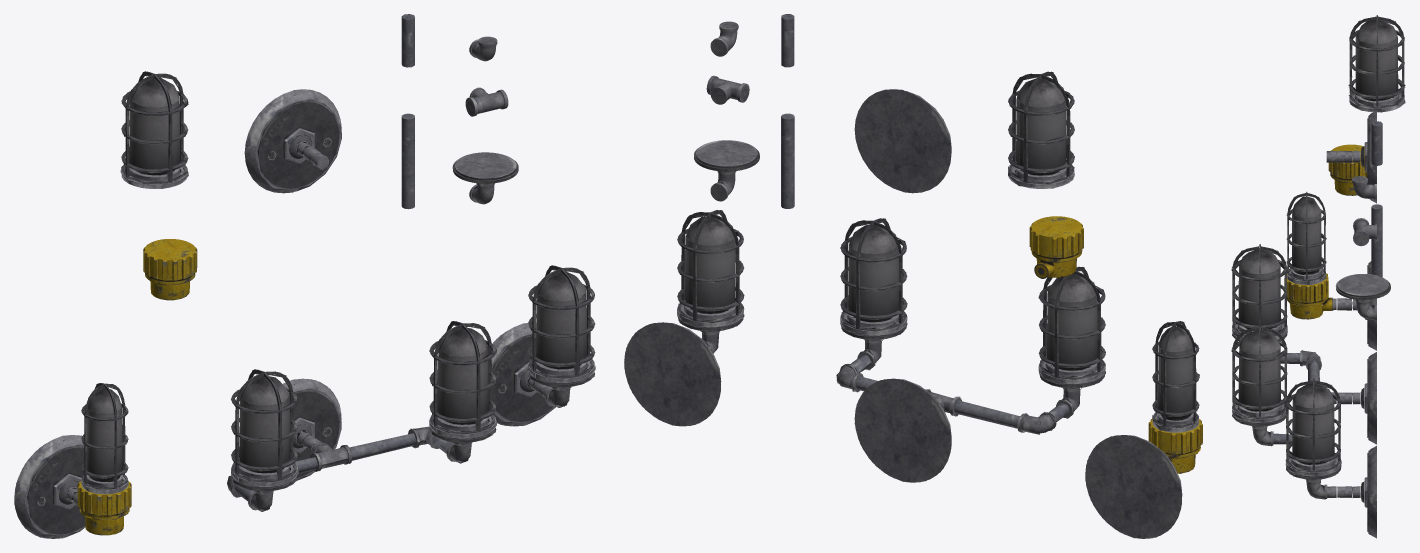
Rendered from caged_sconce.glb.
The picture shows the model from 3 angles, left to right: view 1: azimuth 30°, elevation 25°; view 2: azimuth 150°, elevation 25°; view 3: azimuth 270°, elevation 25°; orthographic projection. The views are drawn at different scales.
Visible parts, largest first — view 1: industrial_caged_sconce_c, industrial_caged_sconce_b, industrial_caged_sconce_a, industrial_caged_sconce_mount, industrial_caged_sconce_light, industrial_caged_sconce_base_a, industrial_caged_sconce_base_b, industrial_caged_sconce_pipe_long, industrial_caged_sconce_pipe_t, industrial_caged_sconce_pipe_short; view 2: industrial_caged_sconce_c, industrial_caged_sconce_a, industrial_caged_sconce_b, industrial_caged_sconce_mount, industrial_caged_sconce_light, industrial_caged_sconce_base_a, industrial_caged_sconce_base_b, industrial_caged_sconce_pipe_long, industrial_caged_sconce_pipe_t, industrial_caged_sconce_pipe_short; view 3: industrial_caged_sconce_c, industrial_caged_sconce_a, industrial_caged_sconce_b, industrial_caged_sconce_light, industrial_caged_sconce_base_b, industrial_caged_sconce_mount, industrial_caged_sconce_base_a, industrial_caged_sconce_pipe_long, industrial_caged_sconce_pipe_short, industrial_caged_sconce_pipe_t, industrial_caged_sconce_elbow.
Boxes of the visible parts, x1,y1,x2,y2 form: industrial_caged_sconce_c: (227, 321, 496, 511); industrial_caged_sconce_b: (14, 383, 131, 538); industrial_caged_sconce_a: (491, 265, 595, 426); industrial_caged_sconce_mount: (244, 89, 341, 193); industrial_caged_sconce_light: (120, 71, 188, 188); industrial_caged_sconce_base_a: (143, 239, 197, 300); industrial_caged_sconce_base_b: (452, 152, 518, 204); industrial_caged_sconce_pipe_long: (401, 113, 414, 209); industrial_caged_sconce_pipe_t: (465, 87, 508, 116); industrial_caged_sconce_pipe_short: (401, 14, 414, 67); industrial_caged_sconce_c: (836, 218, 1105, 482); industrial_caged_sconce_a: (624, 210, 744, 426); industrial_caged_sconce_b: (1085, 321, 1202, 538); industrial_caged_sconce_mount: (854, 89, 951, 193); industrial_caged_sconce_light: (1008, 71, 1074, 188); industrial_caged_sconce_base_a: (1029, 216, 1083, 278); industrial_caged_sconce_base_b: (694, 140, 759, 201); industrial_caged_sconce_pipe_long: (781, 113, 794, 208); industrial_caged_sconce_pipe_t: (706, 75, 749, 104); industrial_caged_sconce_pipe_short: (781, 14, 794, 67); industrial_caged_sconce_c: (1231, 244, 1376, 446); industrial_caged_sconce_a: (1285, 378, 1376, 538); industrial_caged_sconce_b: (1284, 192, 1376, 350); industrial_caged_sconce_light: (1348, 15, 1405, 112); industrial_caged_sconce_base_b: (1336, 274, 1390, 320); industrial_caged_sconce_mount: (1326, 110, 1376, 203); industrial_caged_sconce_base_a: (1328, 144, 1367, 195); industrial_caged_sconce_pipe_long: (1371, 204, 1382, 277); industrial_caged_sconce_pipe_short: (1371, 121, 1382, 165); industrial_caged_sconce_pipe_t: (1353, 218, 1376, 246); industrial_caged_sconce_elbow: (1352, 176, 1376, 199).
Bounding box in the file's own units: 0.5543 × 0.42 × 0.18.
1 material, 1 textured.
